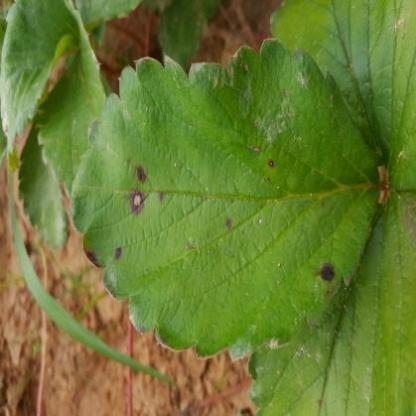Strawberry_Leaf_Spot: (68, 38, 390, 366), (249, 188, 415, 416), (271, 0, 416, 193)
